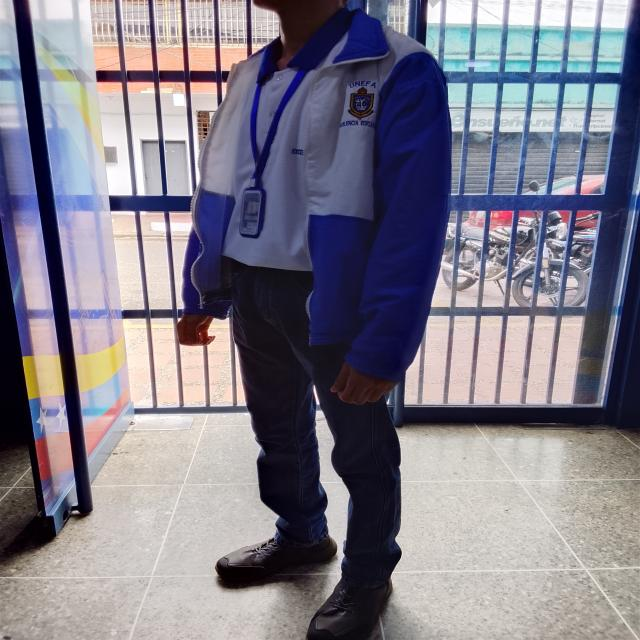carnet: (240, 192, 262, 235)
chaqueta_unefa: (181, 5, 452, 384)
